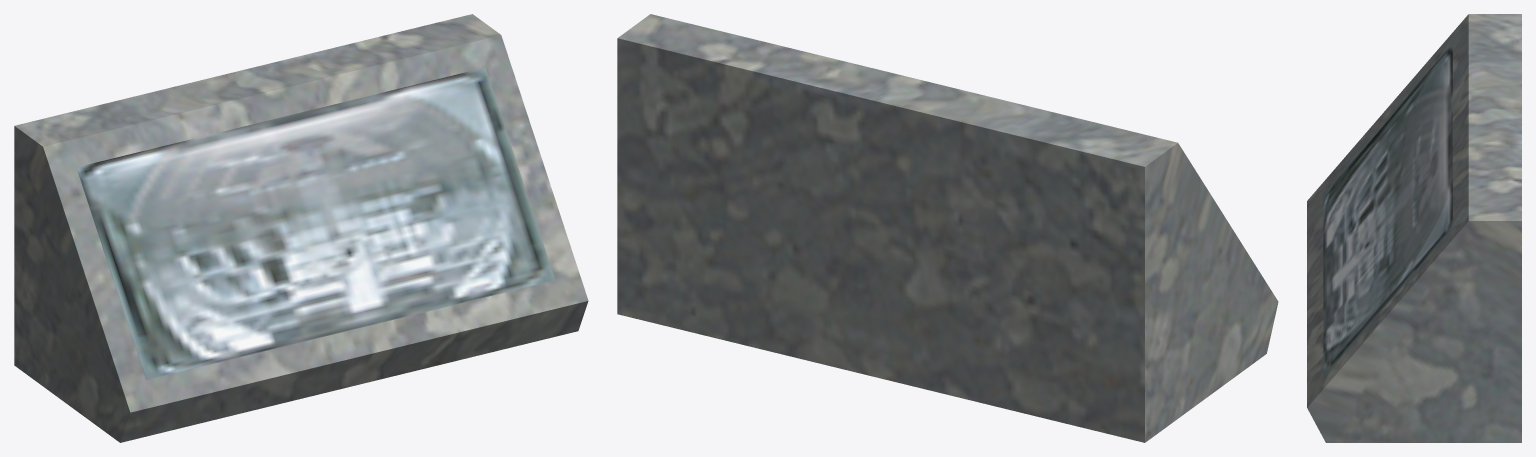
Rendered from Light-Box.fbx.
The picture shows the model from 3 angles, left to right: view 1: azimuth 30°, elevation 25°; view 2: azimuth 150°, elevation 25°; view 3: azimuth 270°, elevation 25°; orthographic projection. The views are drawn at different scales.
Visible parts, largest first — view 1: Light-Box; view 2: Light-Box; view 3: Light-Box.
Boxes of the visible parts, <box> form: Light-Box: <box>14,14,588,442</box>; Light-Box: <box>617,14,1278,442</box>; Light-Box: <box>1307,14,1521,442</box>.
Size of the model in its own units: 50 by 25 by 21.92.
